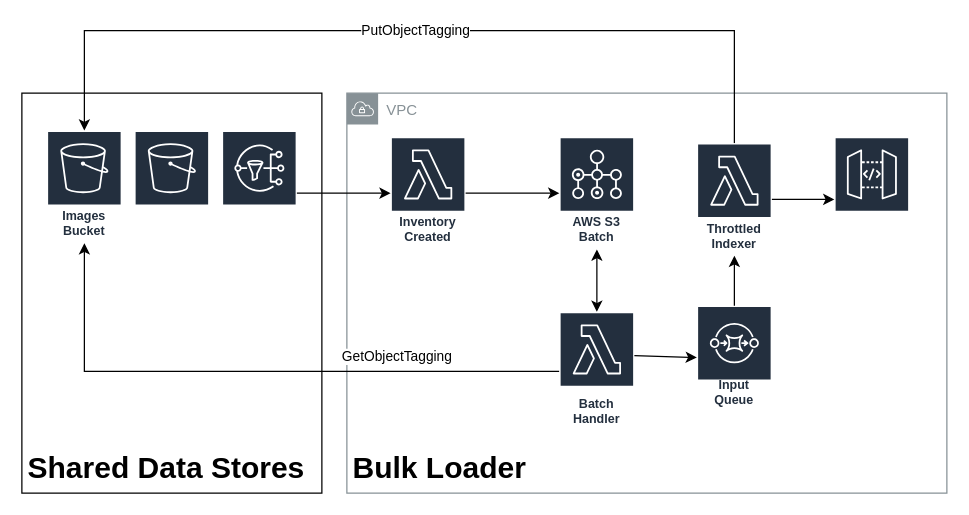
The diagram is 969 pixels wide and 515 high, and some of its shapes have lost their labels. Each missing label, with the centre of its shape:
Inventory Bucket: the point at 171,186
Inventory Created Topic: the point at 259,192
User Portal Gateway: the point at 871,199
